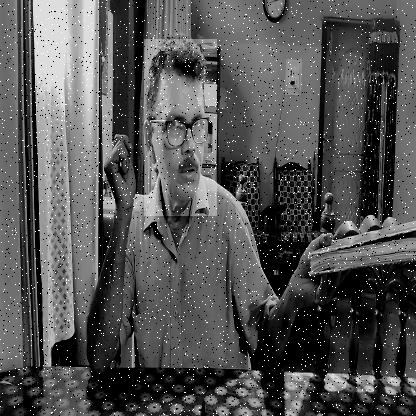Distracted: (144, 39, 217, 216)
